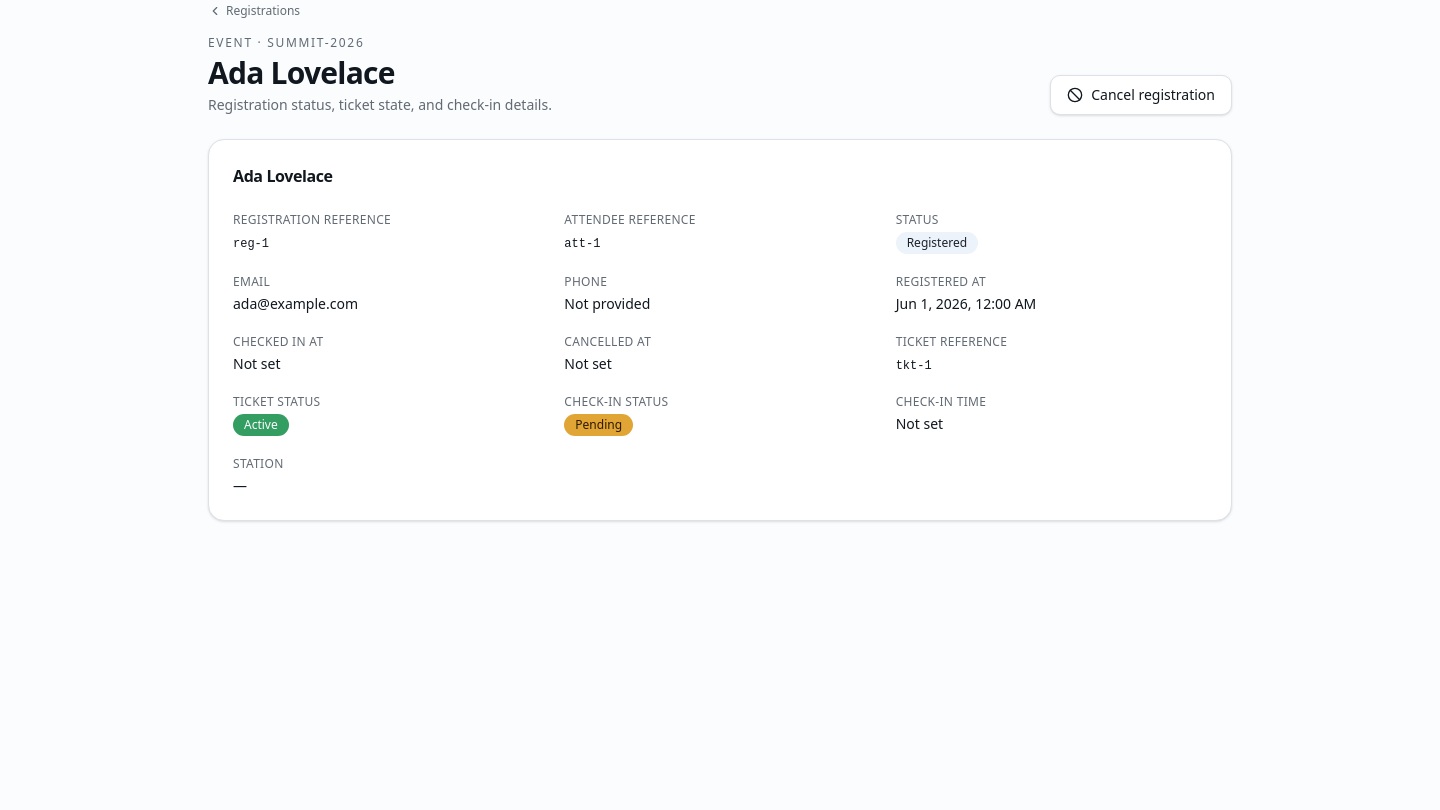
Test: registration management › cancels a registration only after confirmation and invalidates queries
Later steps or results of the test are not shown.
Expected: the heading "Ada Lovelace" below "Event · summit-2026" is shown, [208,52,395,93]
Click the button "Cancel registration".
click(1141, 95)  # box [1050,75,1232,115]
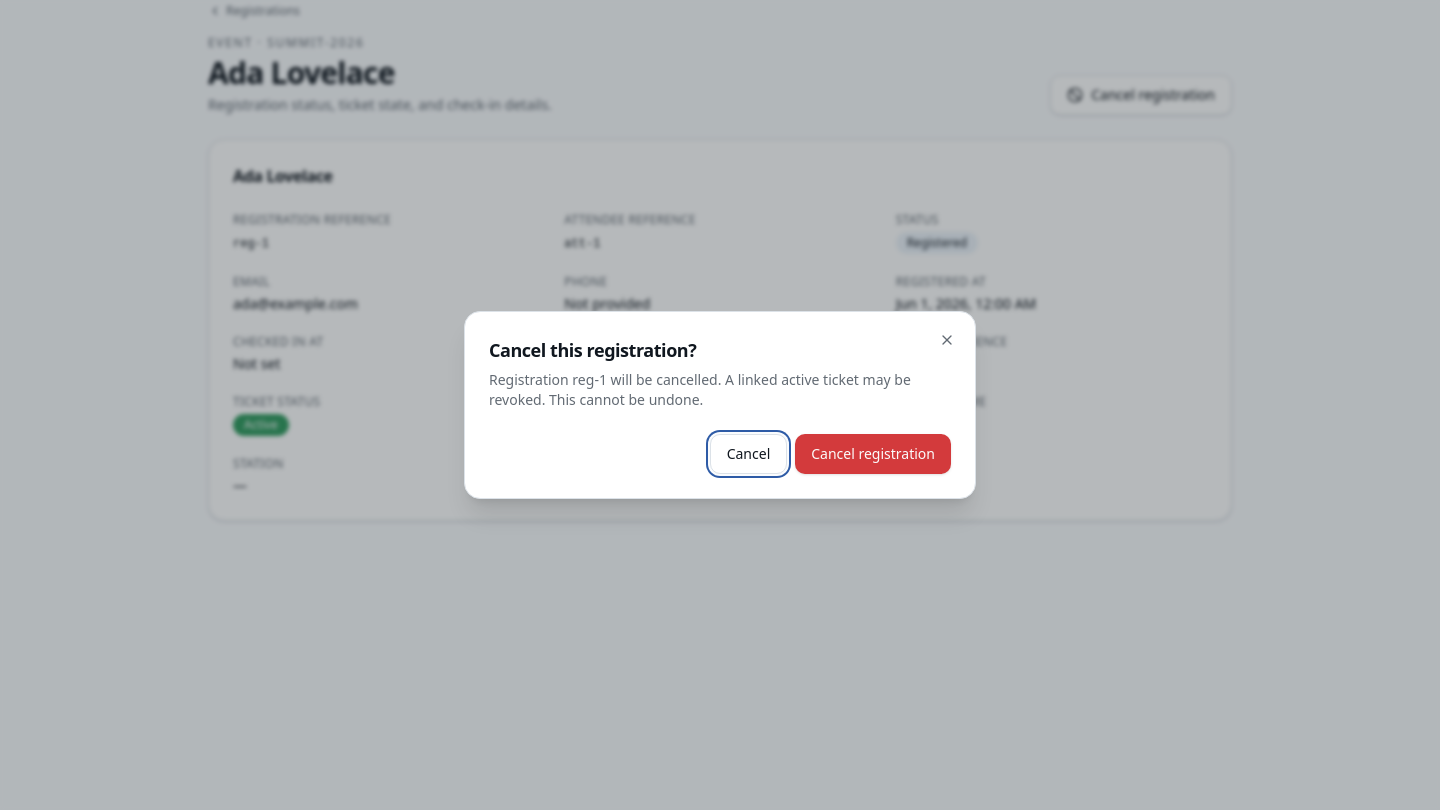
Now the text "will be cancelled. A linked active ticket may be revoked" is shown, box [489,370,911,409]
